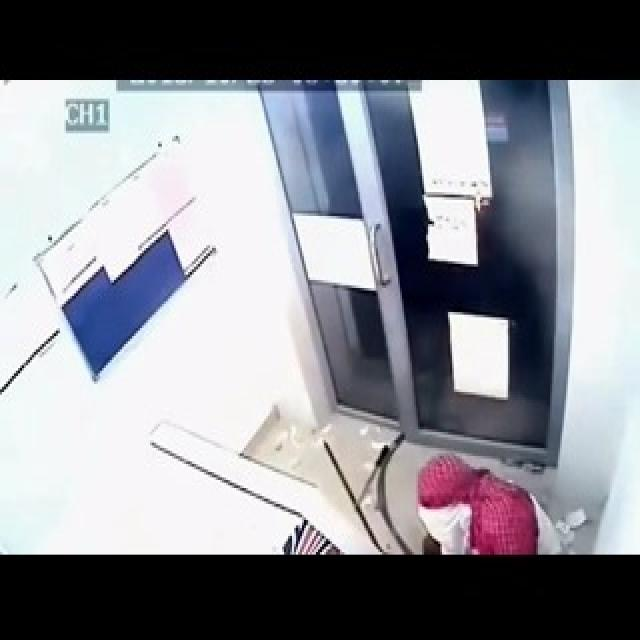thief: (403, 446, 580, 559)
